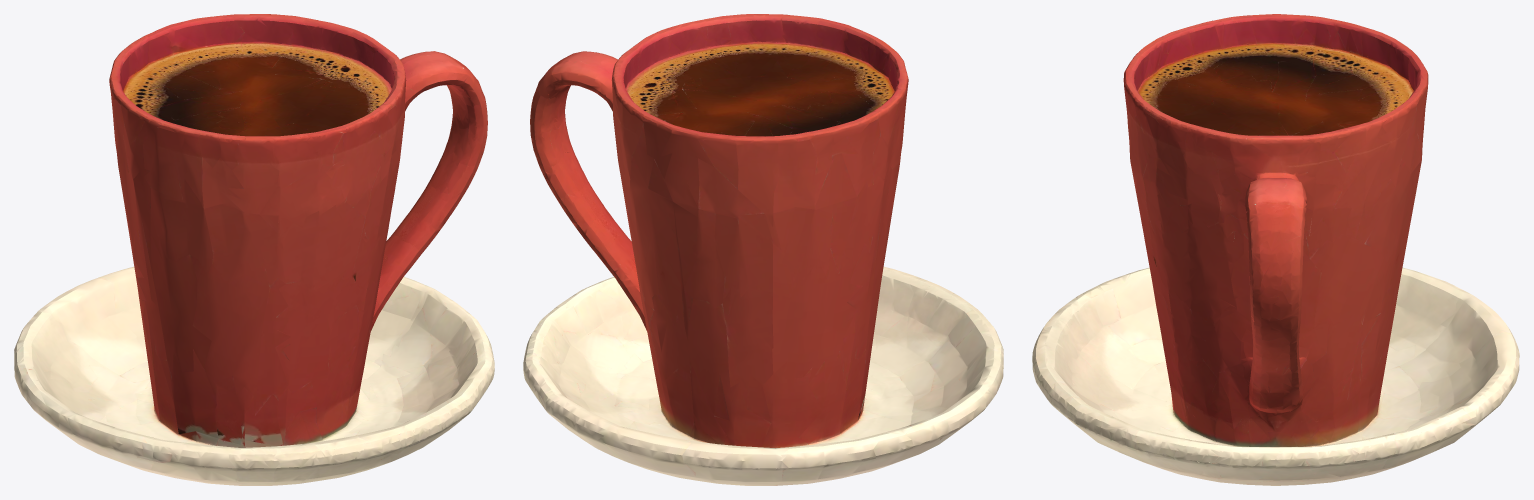
Rendered from americano.glb.
3 views of the same model, side by side, from view 1: azimuth 30°, elevation 25°; view 2: azimuth 150°, elevation 25°; view 3: azimuth 270°, elevation 25° (orthographic).
Visible parts, largest first — view 1: Mesh_0; view 2: Mesh_0; view 3: Mesh_0.
Part boxes in pixels (left/top/right/bottom): Mesh_0: left=14, top=14, right=494, bottom=485; Mesh_0: left=523, top=14, right=1003, bottom=485; Mesh_0: left=1032, top=14, right=1519, bottom=485.
Bounding box in the file's own units: 1.9 × 1.44 × 1.82.
1 material, 1 textured.
